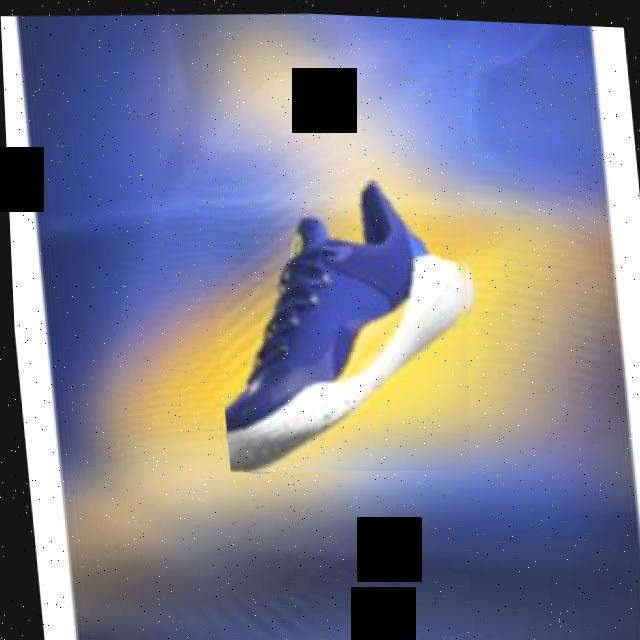shoe: (201, 167, 488, 479)
